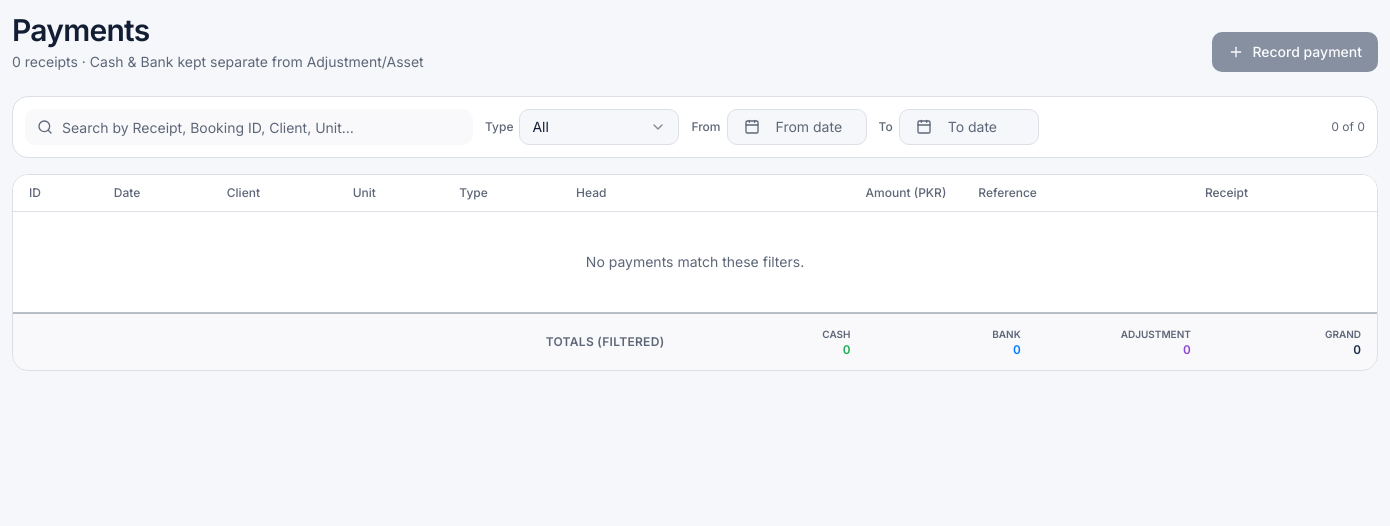
Scenario: Payments: deep-link route guard keeps PaymentForm inaccessible until latest prefill succeeds › FAILURE — deep link with failed prefill: Record payment button is disabled, clicks do NOT mount the form
The image size is (1390, 526).
Later steps or results of the test are not shown.
# User tries to bypass the guard by clicking the button — no-op.
Click the button "Record payment": click(1295, 52) [1212, 32, 1378, 72]
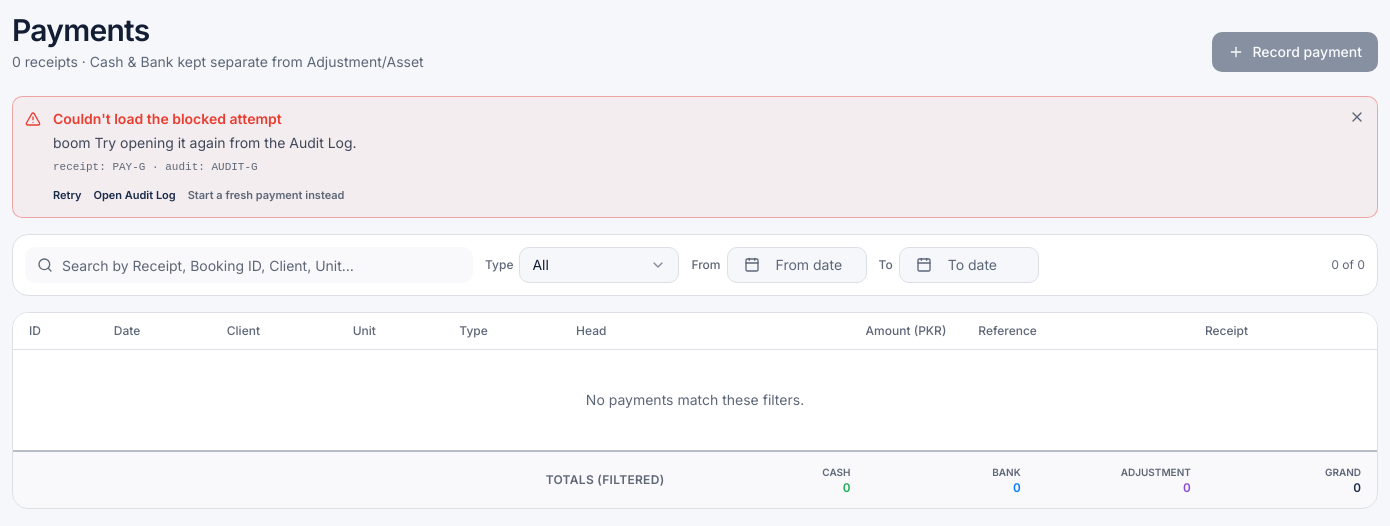
Expected: the message is shown, [12, 96, 1378, 218]
